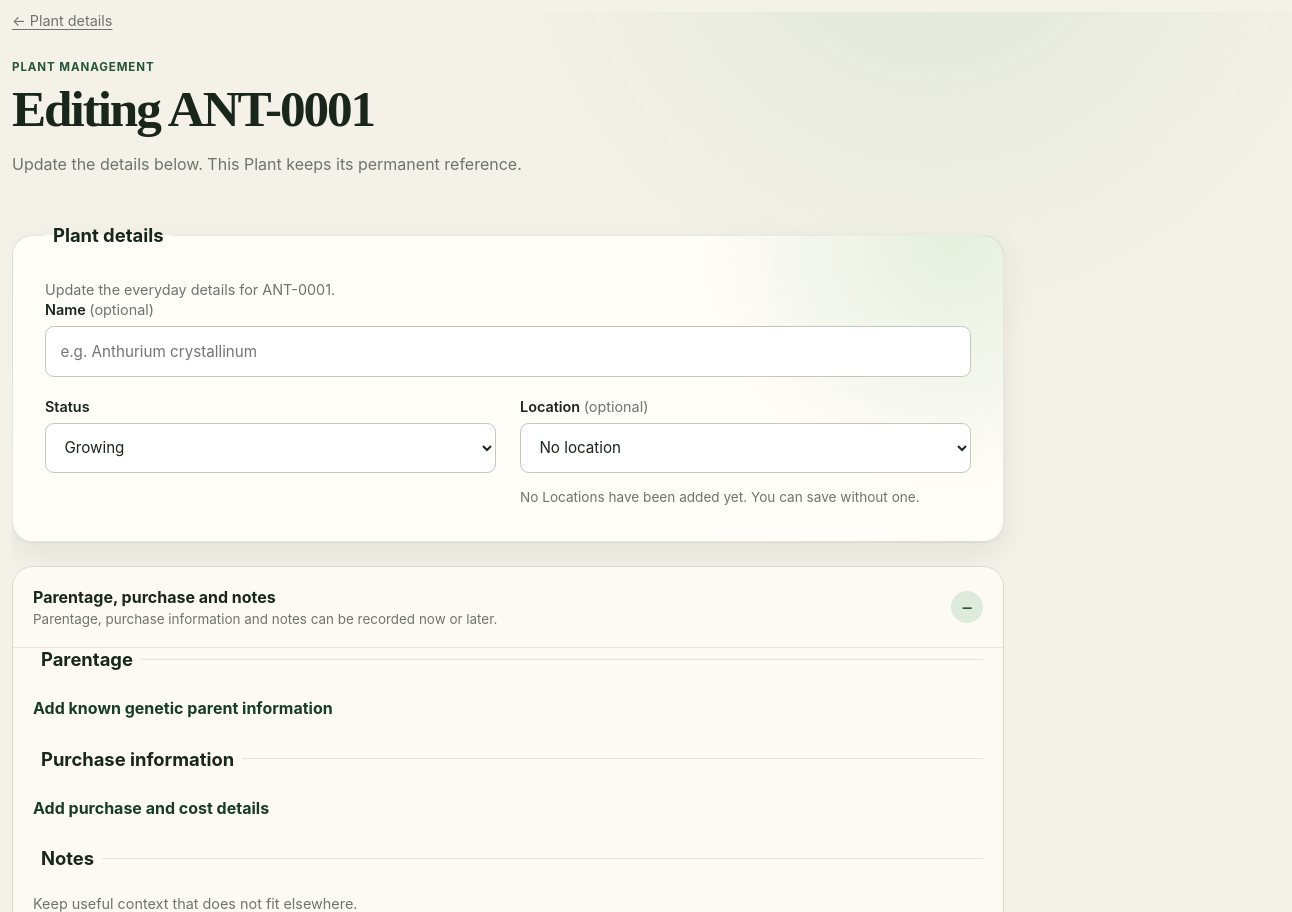
Test: works with optional fields and groups absent
Expected: the field labelled "Name (optional)" is empty, x1=45 y1=326 x2=971 y2=377
Click the heading "Add purchase and cost details".
click(151, 808)  # box x1=33 y1=792 x2=269 y2=823
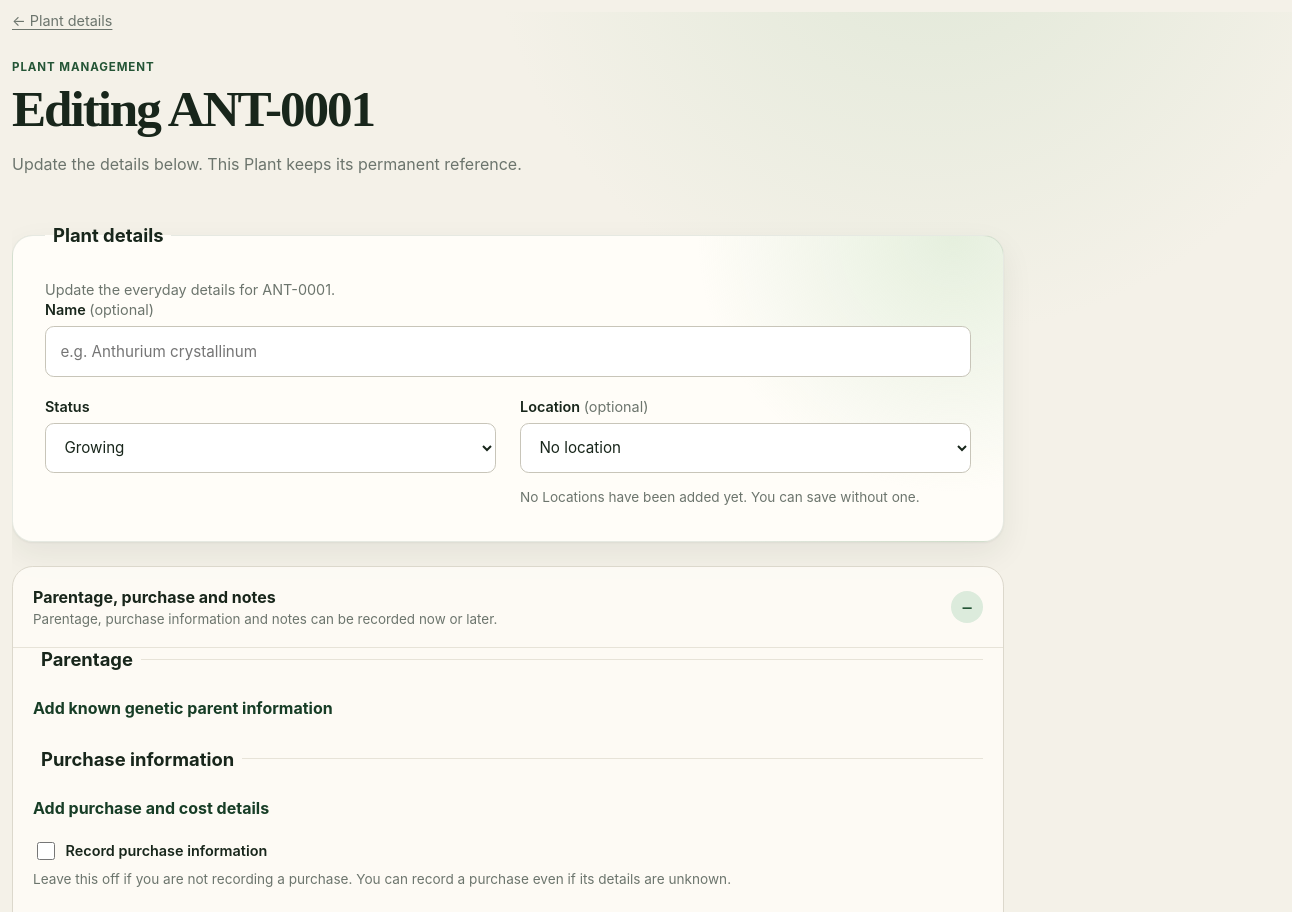
Expected: the dropdown labelled "Location (optional)" shows "No location", x1=520 y1=422 x2=971 y2=473
Expected: the checkbox labelled "Record purchase information" is not checked, x1=37 y1=842 x2=55 y2=860
